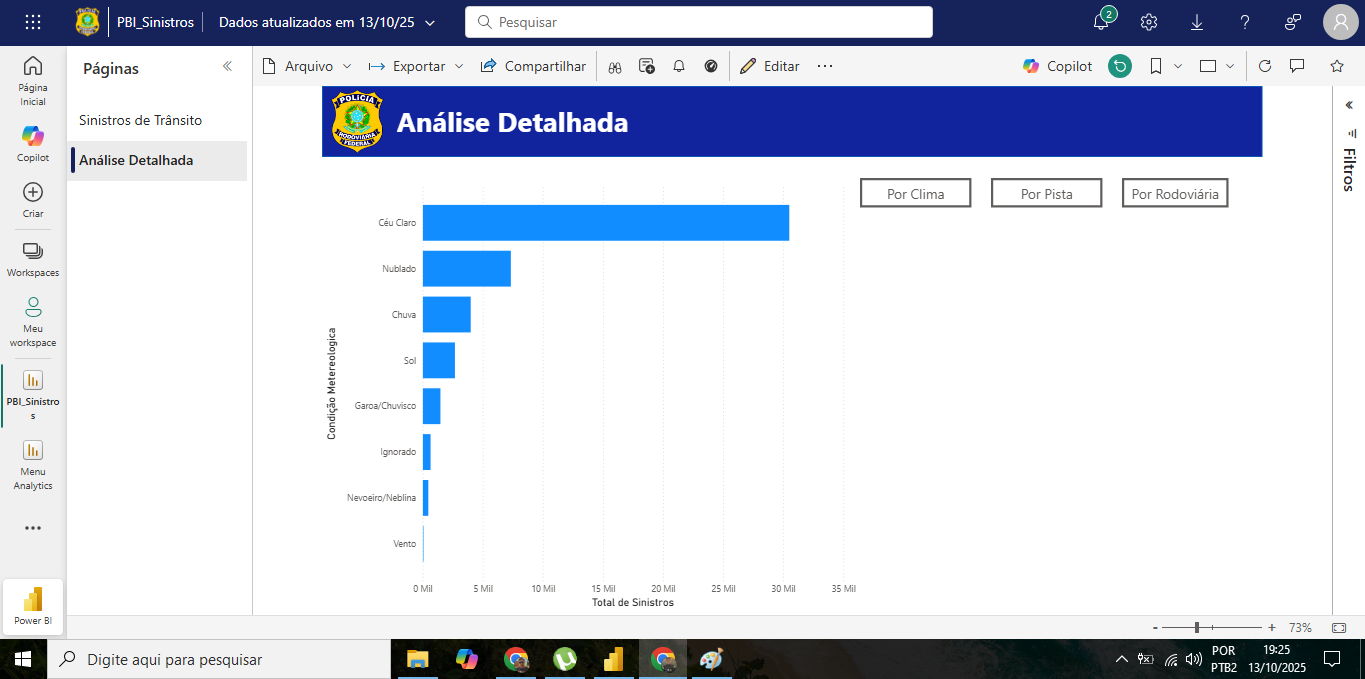

Layout of this report page (visuals, bound fields, positions):
{"tool":"powerbi","page":{"name":"Análise Detalhada","canvas":[1280,720],"ordinal":1},"visuals":[{"type":"shape","box":[0,0,1280,96.7],"z":0},{"type":"textbox","box":[96.7,18.3,515,60],"z":1000},{"type":"image","box":[0,0,96.7,96.7],"z":2000},{"type":"barChart","title":"graf_clima","fields":{"Y":["datatran2025.Total de Sinistros"],"Category":["datatran2025.condicao_metereologica"]},"box":[0,124.4,731.7,591.7],"z":3000},{"type":"actionButton","box":[731.7,125,151.7,40],"z":6000},{"type":"actionButton","box":[910,125,151.7,40],"z":7000},{"type":"actionButton","box":[1088.3,125,145,40],"z":8000}]}

Visuals, with their boxes on the page's 1280x720 design canvas (x1, y1, x2, y2). These are canvas units, not pixel positions in the 1365x679 screenshot, which may show the page scaled, cropped or inside an application window:
shape: {"x1": 0, "y1": 0, "x2": 1280, "y2": 97}
textbox: {"x1": 97, "y1": 18, "x2": 612, "y2": 78}
image: {"x1": 0, "y1": 0, "x2": 97, "y2": 97}
"graf_clima" barChart: {"x1": 0, "y1": 124, "x2": 732, "y2": 716}
actionButton: {"x1": 732, "y1": 125, "x2": 883, "y2": 165}
actionButton: {"x1": 910, "y1": 125, "x2": 1062, "y2": 165}
actionButton: {"x1": 1088, "y1": 125, "x2": 1233, "y2": 165}
